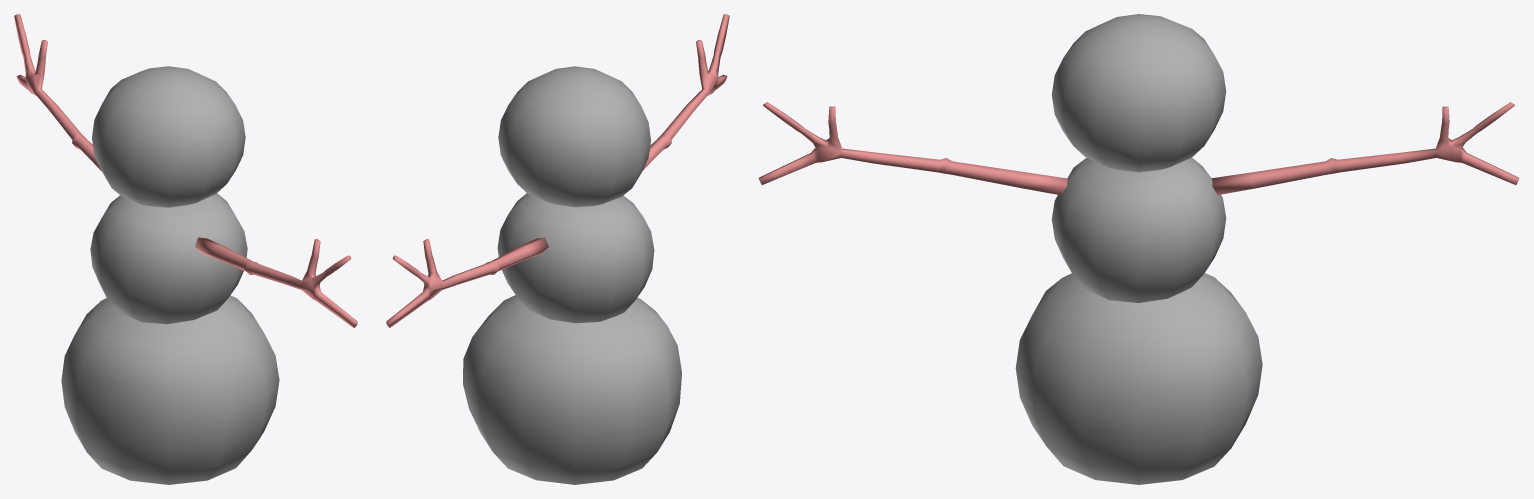
File: Snowman.fbx
3 renders of one model, left to right at view 1: azimuth 30°, elevation 25°; view 2: azimuth 150°, elevation 25°; view 3: azimuth 270°, elevation 25°, orthographic. The views are drawn at different scales.
Visible parts, largest first — view 1: Snowman; view 2: Snowman; view 3: Snowman.
Part boxes in pixels (left/top/right/bottom): Snowman: left=14, top=14, right=357, bottom=484; Snowman: left=386, top=14, right=729, bottom=484; Snowman: left=758, top=14, right=1519, bottom=484.
Size of the model in its own units: 7.83 by 15.36 by 24.3.
